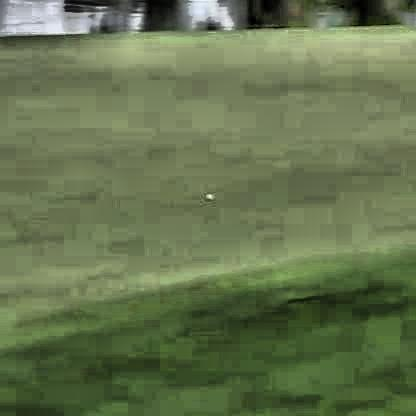golfball: (203, 191, 210, 198)
